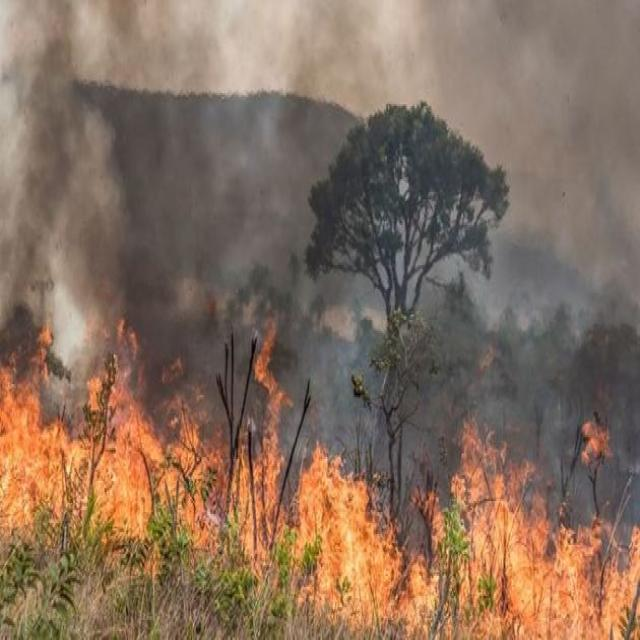Fire: (0, 351, 280, 563), (460, 412, 638, 638), (296, 435, 446, 636)
Smoke: (10, 14, 256, 350), (474, 34, 631, 324)
